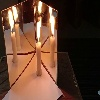fire: (36, 19, 42, 45)
